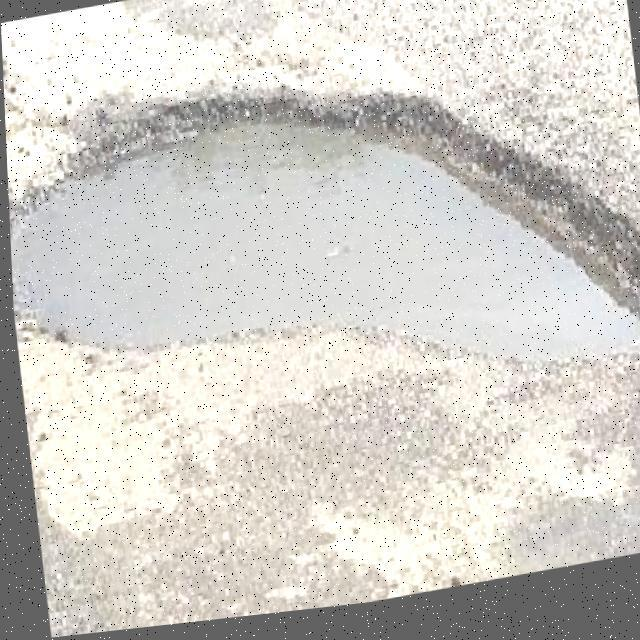pothole: (3, 21, 640, 488)
